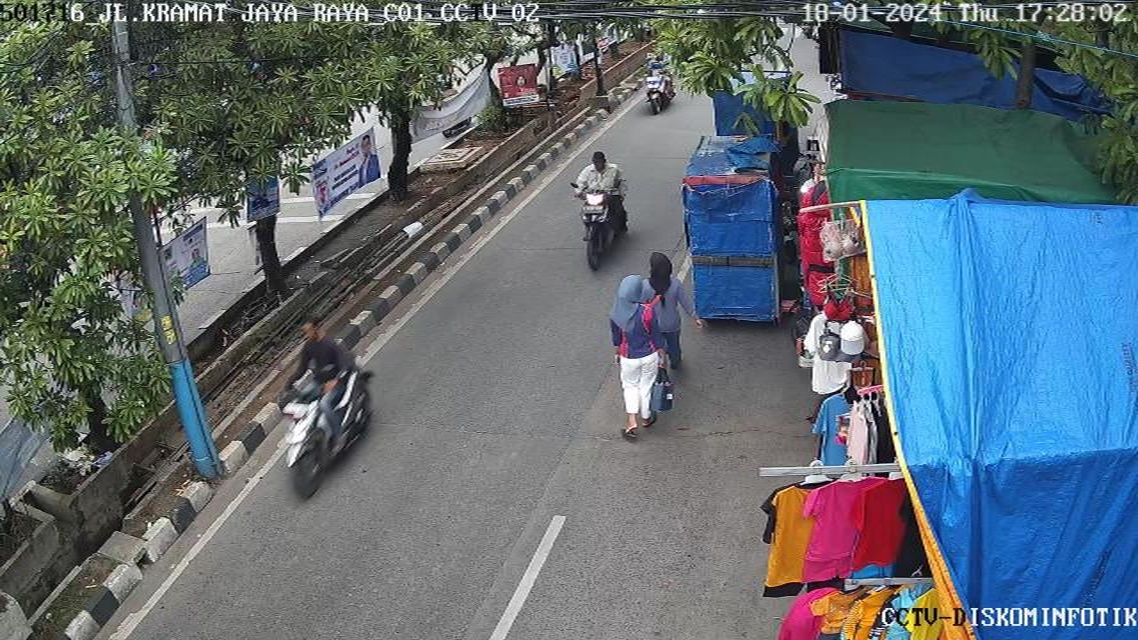Gerobak: (660, 132, 811, 327), (695, 66, 800, 142)
